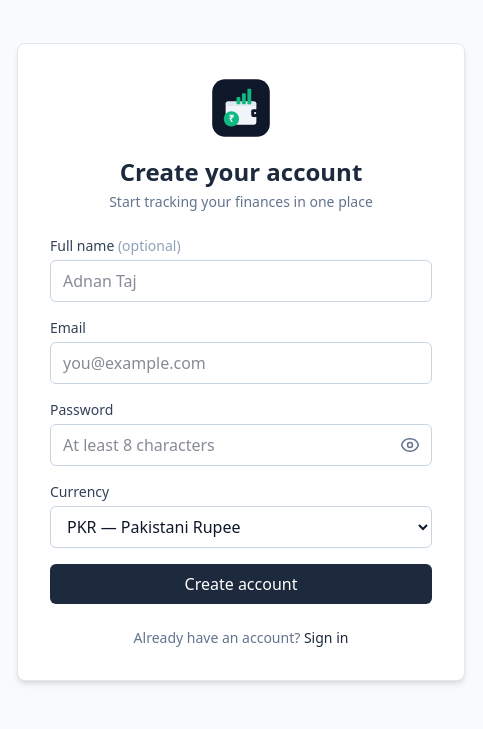
RegisterPage › blocks weak passwords on the client side
Step 1. Type "a@b.com" into the field labelled "Email" → x=241, y=363, box 50,342 -> 432,384
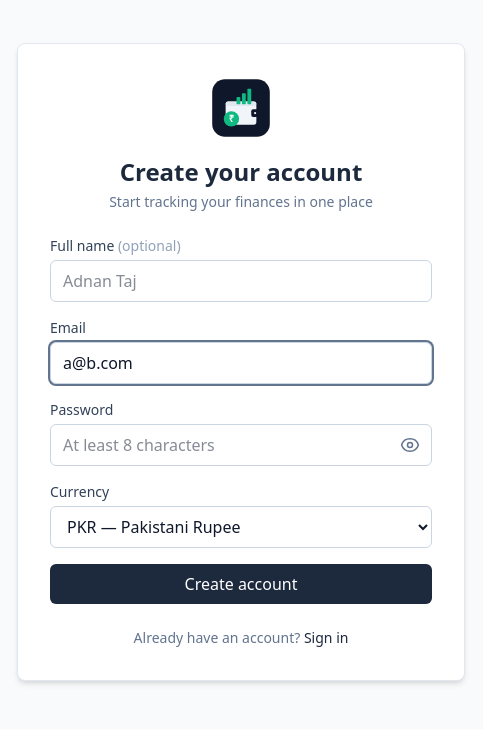
Step 2. Type "short" into the password field labelled "Password" → x=241, y=445, box 50,424 -> 432,466
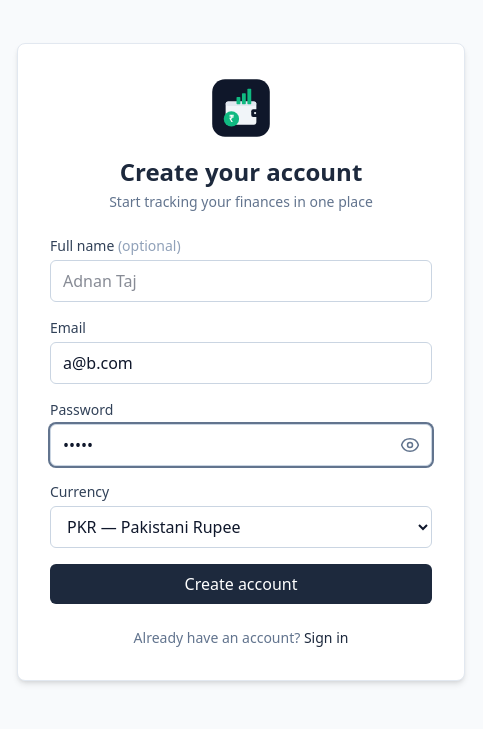
Step 3. Click the button "Create account" → x=241, y=584, box 50,564 -> 432,604
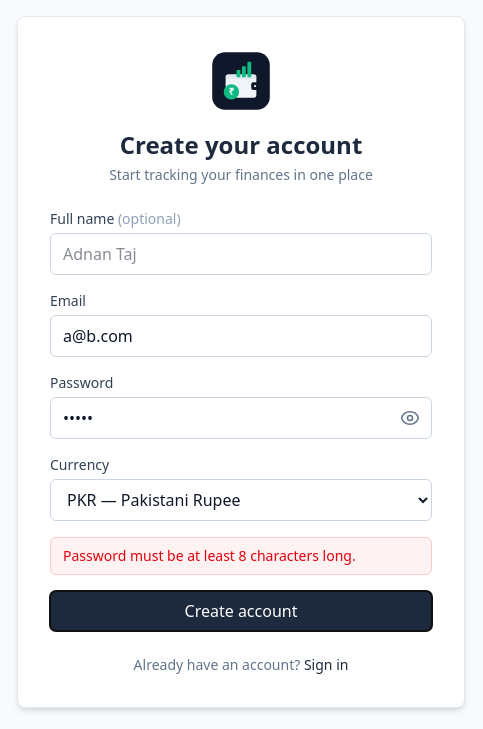
Expected: the text "Password must be at least 8 characters long." is shown, 50,537 -> 432,575
